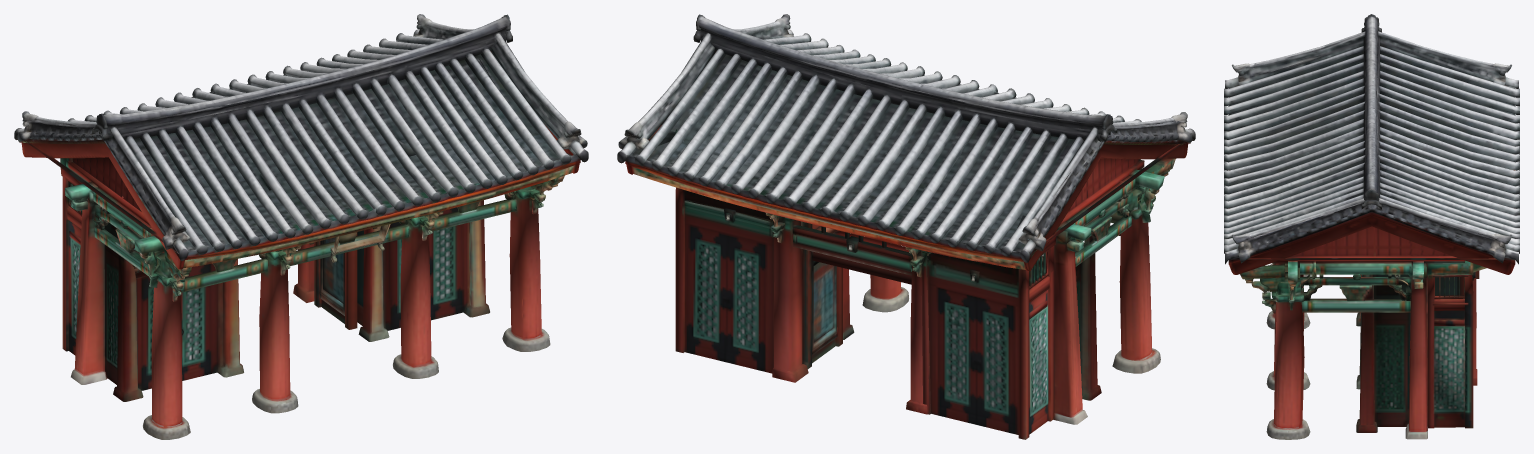
Rendered from door.glb.
3 renders of one model, left to right at view 1: azimuth 30°, elevation 25°; view 2: azimuth 150°, elevation 25°; view 3: azimuth 270°, elevation 25°, orthographic. The views are drawn at different scales.
Visible parts, largest first — view 1: tripo_node_5cede933-9788-460a-8bda-76f87d940dd8; view 2: tripo_node_5cede933-9788-460a-8bda-76f87d940dd8; view 3: tripo_node_5cede933-9788-460a-8bda-76f87d940dd8.
Part boxes in pixels (<box>): tripo_node_5cede933-9788-460a-8bda-76f87d940dd8: <box>14,14,588,439</box>; tripo_node_5cede933-9788-460a-8bda-76f87d940dd8: <box>617,14,1195,439</box>; tripo_node_5cede933-9788-460a-8bda-76f87d940dd8: <box>1224,14,1519,439</box>.
Size of the model in its own units: 0.9995 by 0.6479 by 0.6841.
1 material, 1 textured.
